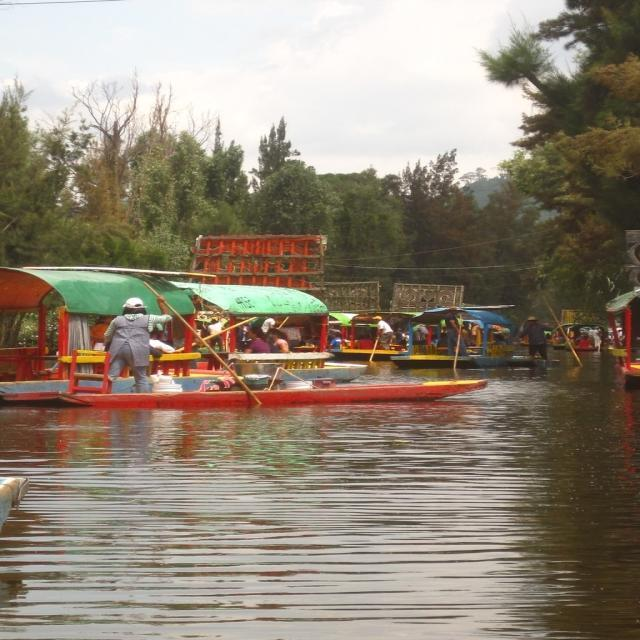boat: (48, 373, 496, 422), (209, 282, 336, 379), (326, 311, 430, 365), (373, 348, 547, 372)
